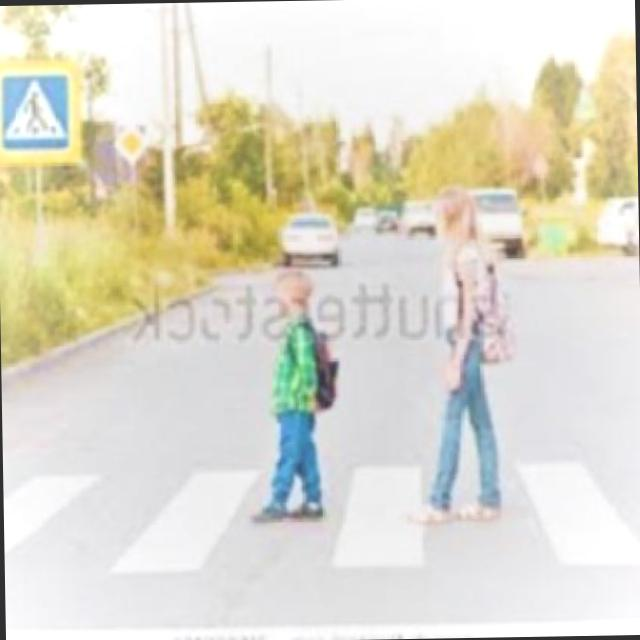Person: (400, 171, 519, 530), (236, 266, 347, 529)
